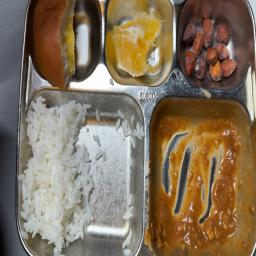50_bread: (28, 0, 101, 89)
50_nuts: (178, 14, 242, 85)
50_orange: (107, 5, 174, 85)
50_rice: (21, 92, 137, 256)
empty: (154, 107, 248, 256)
